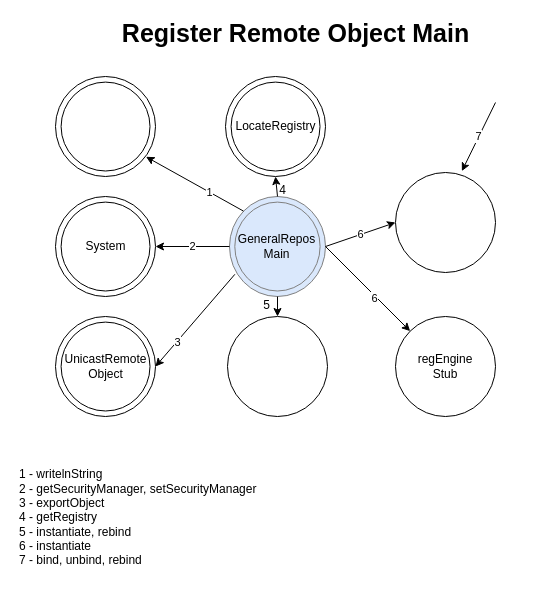
Image size: 542x609. Some labels were removed from this diagram. Here are the shapes that lost their labels. From the top down, the box of each, then its label:
(60, 81, 150, 171): GenericIO
(394, 172, 496, 272): regEngine
(226, 316, 328, 416): registry
